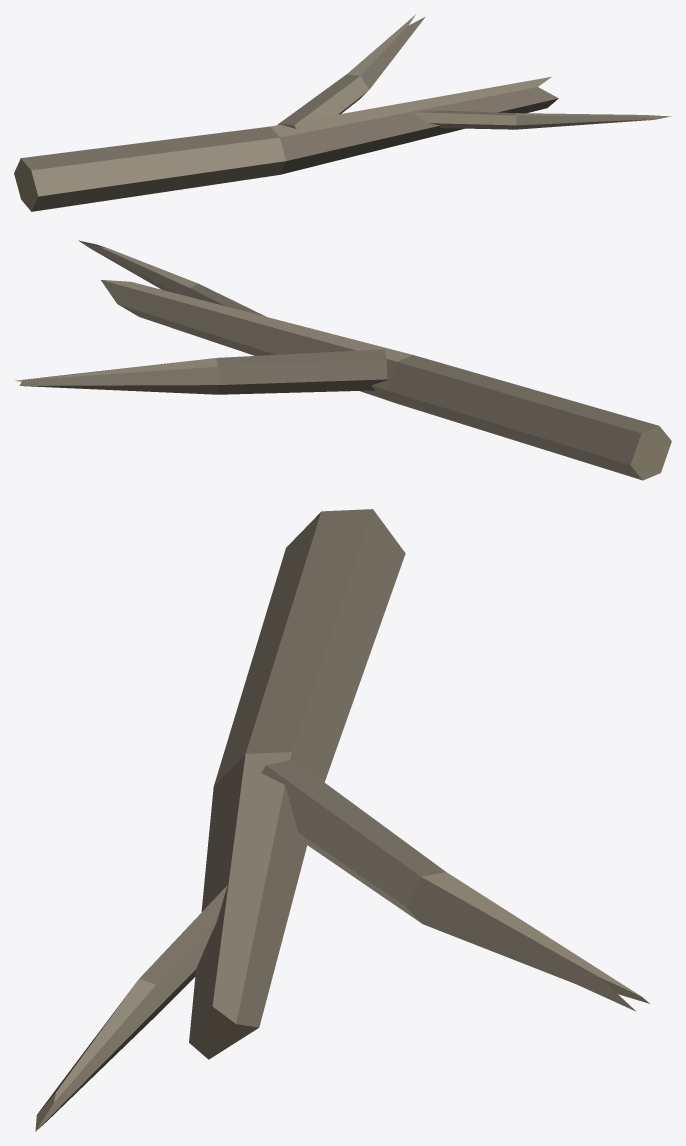
File: ground-prop-fallen-limb-lite.glb
The picture shows the model from 3 angles, top to bottom: view 1: azimuth 30°, elevation 25°; view 2: azimuth 150°, elevation 25°; view 3: azimuth 270°, elevation 25°; orthographic projection. The views are drawn at different scales.
Visible parts, largest first — view 1: ground-prop-fallen-limb-lite / surface; view 2: ground-prop-fallen-limb-lite / surface; view 3: ground-prop-fallen-limb-lite / surface.
Boxes of the visible parts, x1,y1,x2,y2 form: ground-prop-fallen-limb-lite / surface: (14, 14, 671, 211); ground-prop-fallen-limb-lite / surface: (14, 240, 671, 480); ground-prop-fallen-limb-lite / surface: (35, 509, 649, 1131).
Bounding box in the file's own units: 2.41 × 0.1948 × 1.13.
